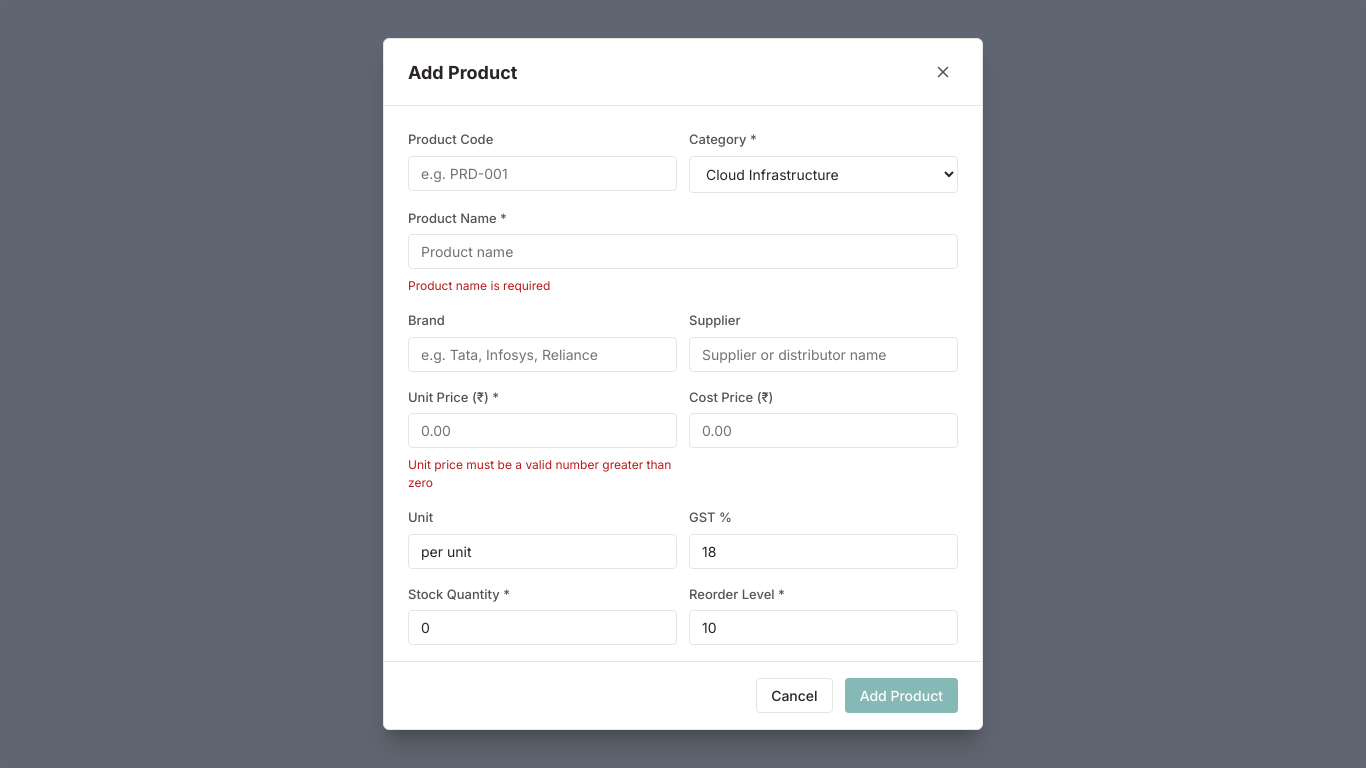
Test: Frontend Input Validation & Boundaries › 2. Add / Edit Product Form Validation › validates cost price greater than unit price and disables submit
The width and height of the screenshot is (1366, 768).
In the field labelled "Product Name *": coordinates (683, 252) left=408, top=234, right=958, bottom=269, type "Valid Product Name"
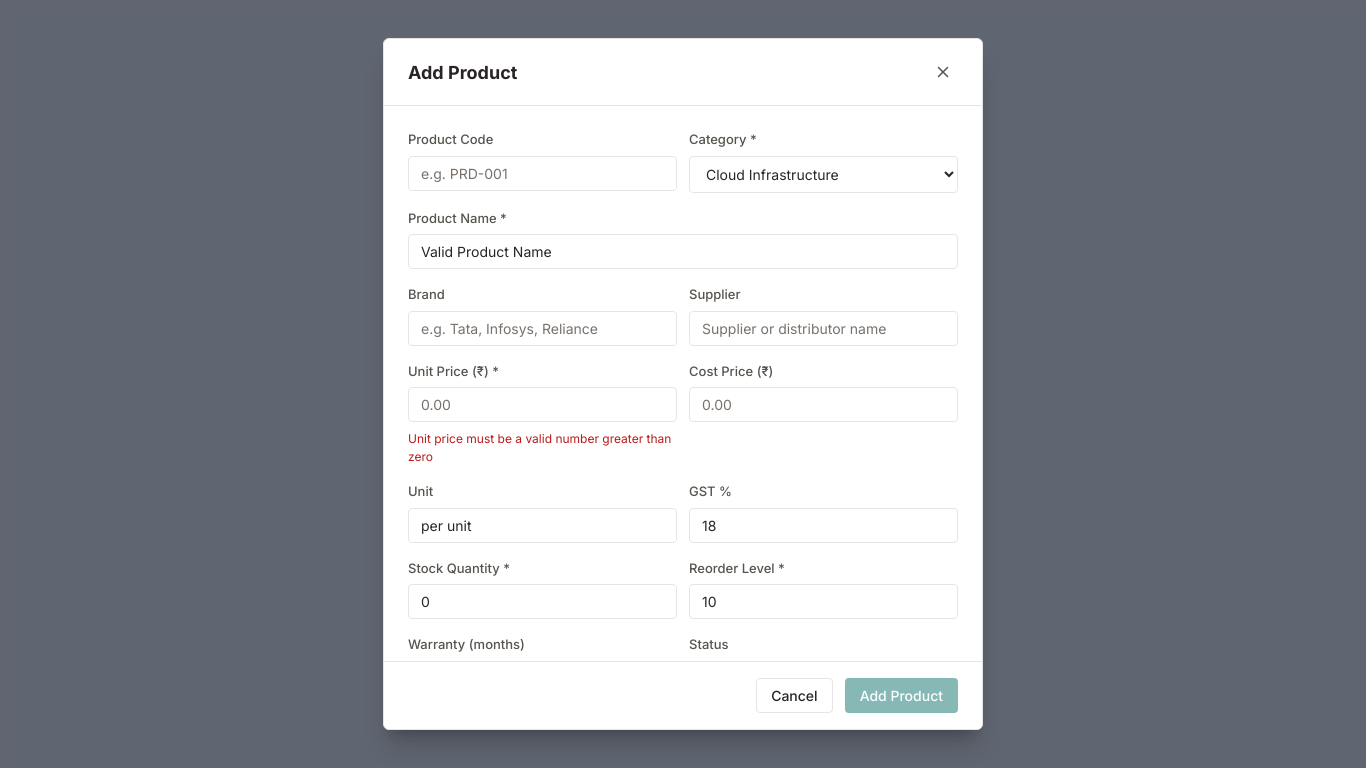
In the number field labelled "Unit Price (₹) *": coordinates (542, 405) left=408, top=387, right=677, bottom=422, type "500"
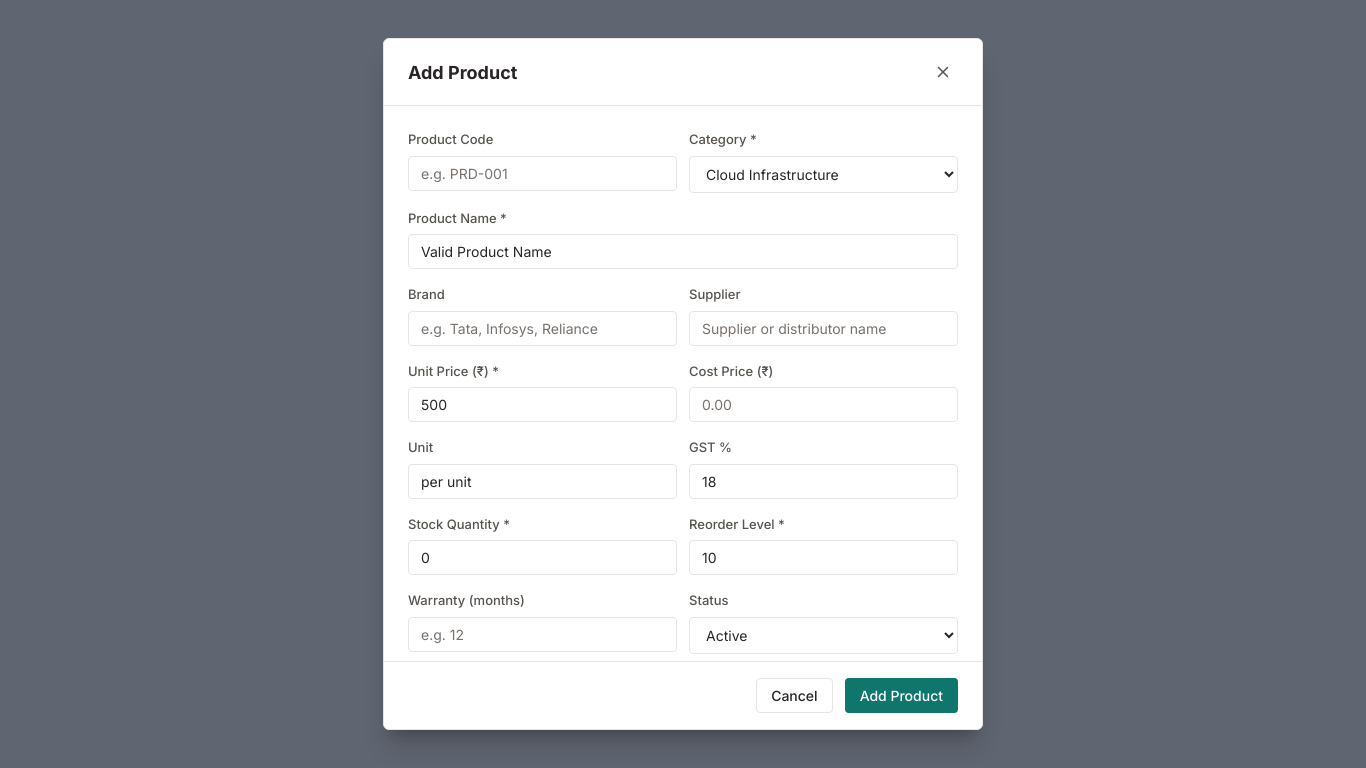
In the number field labelled "Cost Price (₹)": coordinates (824, 405) left=689, top=387, right=958, bottom=422, type "600"
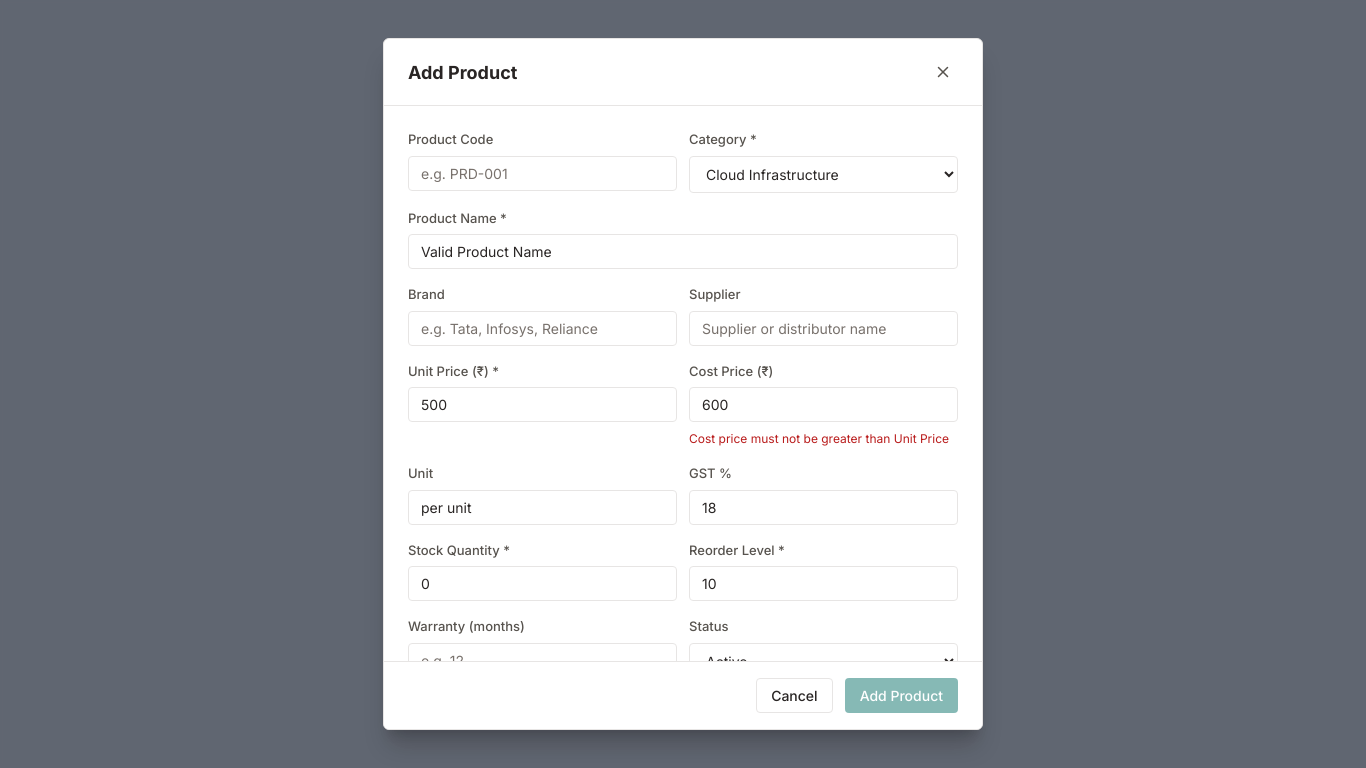
Check: the text "Cost price must not be greater than Unit Price" is shown, box left=689, top=430, right=958, bottom=448
Check: the button "Add Product" is disabled, box left=845, top=678, right=958, bottom=713
